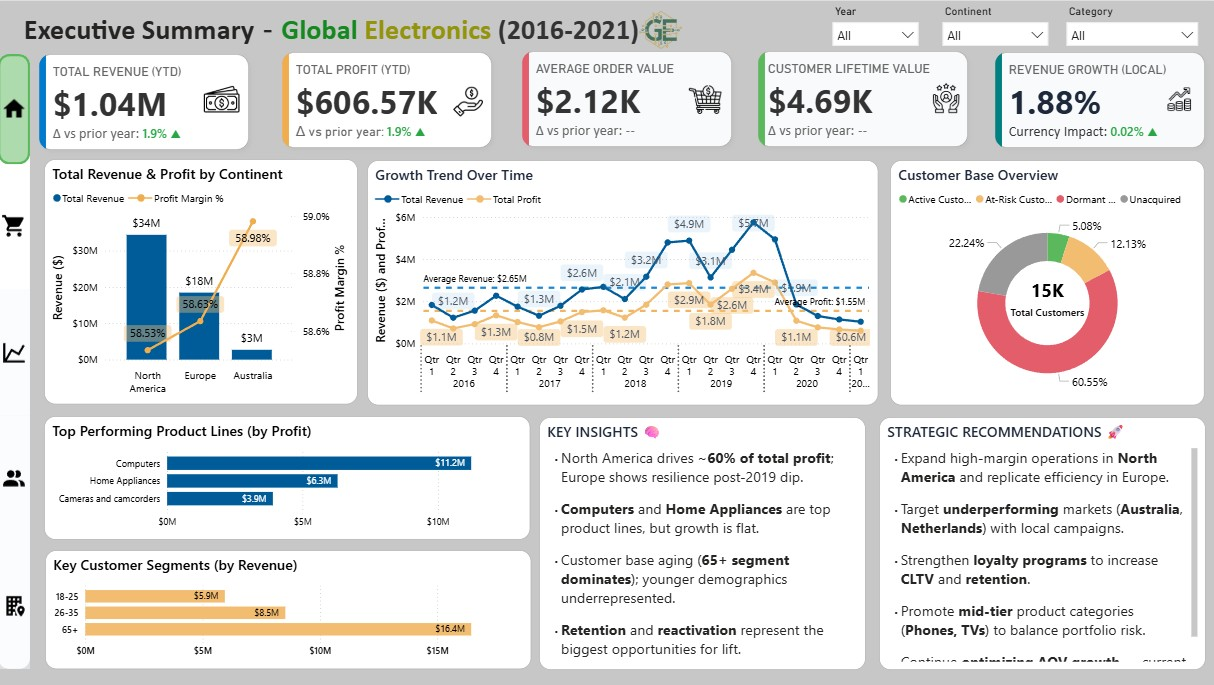

This screenshot's page, from the dashboard's own definition file:
{"tool":"powerbi","page":{"name":"Executive Summary","canvas":[1600,900],"ordinal":0},"visuals":[{"type":"textbox","box":[28.3,8.3,870,60],"z":0},{"type":"cardVisual","fields":{"Data":["customers.Customer Average Order Value"]},"box":[677.1,54.3,300,150],"z":0,"group":"g3"},{"type":"cardVisual","fields":{"Data":["customers.Avg CLTV"]},"box":[988.6,54.3,300,150],"z":0,"group":"g4"},{"type":"cardVisual","fields":{"Data":["sales_final.Total Profit YTD"]},"box":[361.4,55.7,300,150],"z":0,"group":"g2"},{"type":"cardVisual","fields":{"Data":["exchange_rates_final.Revenue Growth (Local Currency) %"]},"box":[1300,55.7,300,150],"z":0,"group":"g5"},{"type":"cardVisual","fields":{"Data":["sales_final.Total Revenue YTD"]},"box":[42,58,300,150],"z":0,"group":"g1"},{"type":"shape","box":[0,70.4,42.3,809.2],"z":0,"group":"g6"},{"type":"donutChart","title":"Customer Base Overview","fields":{"Y":["customers.Active Customers","customers.At-Risk Customers","customers.Dormant Customers","customers.Unacquired"]},"box":[1174.3,208.6,414.3,322.9],"z":0,"group":"g7"},{"type":"image","title":"Logo","box":[827.3,7.8,87,61],"z":1000},{"type":"image","box":[266.3,99.4,57.1,61.4],"z":1000,"group":"g1"},{"type":"image","box":[903.4,101,52.9,57.1],"z":1000,"group":"g3"},{"type":"image","box":[1220.8,101,52.9,52.9],"z":1000,"group":"g4"},{"type":"image","box":[592.2,108.1,52.9,48.6],"z":1000,"group":"g2"},{"type":"image","box":[1532.9,108.6,42.9,42.9],"z":1000,"group":"g5"},{"type":"actionButton","box":[0,212,42,167.5],"z":1000,"group":"g6"},{"type":"card","fields":{"Values":["customers.Total Customers"]},"box":[1312.4,337.2,138.1,104.3],"z":1000,"group":"g7"},{"type":"group","id":"g1","title":"Card_1","box":[42,58,300,150],"z":2000},{"type":"actionButton","box":[0,379.5,42,167.5],"z":2000,"group":"g6"},{"type":"group","id":"g2","title":"Card_2","box":[361.4,55.7,300,150],"z":3000},{"type":"actionButton","box":[0,712.5,42,167.5],"z":3000,"group":"g6"},{"type":"group","id":"g3","title":"Card_3","box":[677.1,54.3,300,150],"z":4000},{"type":"actionButton","box":[0,545,42,167.5],"z":4000,"group":"g6"},{"type":"group","id":"g4","title":"Card_4","box":[988.6,54.3,300,150],"z":5000},{"type":"actionButton","box":[0,69.9,42.3,145.3],"z":5000,"group":"g6"},{"type":"group","id":"g5","title":"Card_5","box":[1300,55.7,300,150],"z":6000},{"type":"group","id":"g6","title":"Page_nav","box":[0,69.9,42.3,810.1],"z":7000},{"type":"slicer","fields":{"Values":["Calendar.Year"]},"box":[1088.6,0,132.9,68.6],"z":8000},{"type":"slicer","fields":{"Values":["customers.Continent"]},"box":[1232.9,0,158.6,68.6],"z":9000},{"type":"lineClusteredColumnComboChart","title":"Total Revenue & Profit by Continent","fields":{"Category":["customers.Continent"],"Y":["sales_final.Total Revenue"],"Y2":["sales_final.Profit Margin %"]},"box":[60,208.3,413.3,323.3],"z":10000},{"type":"lineChart","title":"Growth Trend Over Time","fields":{"Category":["Calendar.Year","Calendar.Date.Variation.Date Hierarchy.Quarter"],"Y":["sales_final.Total Revenue","sales_final.Total Profit"]},"box":[485.7,208.6,672.9,322.9],"z":11000},{"type":"group","id":"g7","title":"Pie","box":[1174.3,208.6,414.3,322.9],"z":12000},{"type":"clusteredBarChart","title":"Top Performing Product Lines (by Profit)","fields":{"Category":["products.Category"],"Y":["sales_final.Total Profit"]},"box":[60,545.7,640,162.9],"z":13000},{"type":"clusteredBarChart","title":"Key Customer Segments (by Revenue)","fields":{"Category":["customers.Age Group"],"Y":["sales_final.Total Revenue"]},"box":[61.4,722.9,640,157.1],"z":14000},{"type":"textbox","title":"KEY INSIGHTS 🧠","box":[711.4,547.1,430,332.9],"z":15000},{"type":"textbox","title":"STRATEGIC RECOMMENDATIONS 🚀","box":[1158.6,547.1,430,332.9],"z":16000},{"type":"slicer","fields":{"Values":["products.Category"]},"box":[1395.7,0,192.9,68.6],"z":17000}]}

Visuals, with their boxes in screenshot pixels (x1, y1, x2, y2), scaled from the page's 1600x900 canvas onto the 1214x685 screenshot:
textbox: detection(21, 6, 682, 52)
cardVisual - customers.Customer Average Order Value: detection(514, 41, 741, 155)
cardVisual - customers.Avg CLTV: detection(750, 41, 978, 155)
cardVisual - sales_final.Total Profit YTD: detection(274, 42, 502, 157)
cardVisual - exchange_rates_final.Revenue Growth (Local Currency) %: detection(986, 42, 1213, 157)
cardVisual - sales_final.Total Revenue YTD: detection(32, 44, 259, 158)
shape: detection(0, 54, 32, 669)
"Customer Base Overview" donutChart: detection(891, 159, 1205, 405)
"Logo" image: detection(628, 6, 694, 52)
image: detection(202, 76, 245, 122)
image: detection(685, 77, 726, 120)
image: detection(926, 77, 966, 117)
image: detection(449, 82, 489, 119)
image: detection(1163, 83, 1196, 115)
actionButton: detection(0, 161, 32, 289)
card - customers.Total Customers: detection(996, 257, 1101, 336)
"Card_1" group: detection(32, 44, 259, 158)
actionButton: detection(0, 289, 32, 416)
"Card_2" group: detection(274, 42, 502, 157)
actionButton: detection(0, 542, 32, 670)
"Card_3" group: detection(514, 41, 741, 155)
actionButton: detection(0, 415, 32, 542)
"Card_4" group: detection(750, 41, 978, 155)
actionButton: detection(0, 53, 32, 164)
"Card_5" group: detection(986, 42, 1213, 157)
"Page_nav" group: detection(0, 53, 32, 670)
slicer - Calendar.Year: detection(826, 0, 927, 52)
slicer - customers.Continent: detection(935, 0, 1056, 52)
"Total Revenue & Profit by Continent" lineClusteredColumnComboChart: detection(46, 159, 359, 405)
"Growth Trend Over Time" lineChart: detection(369, 159, 879, 405)
"Pie" group: detection(891, 159, 1205, 405)
"Top Performing Product Lines (by Profit)" clusteredBarChart: detection(46, 415, 531, 539)
"Key Customer Segments (by Revenue)" clusteredBarChart: detection(47, 550, 532, 670)
"KEY INSIGHTS 🧠" textbox: detection(540, 416, 866, 670)
"STRATEGIC RECOMMENDATIONS 🚀" textbox: detection(879, 416, 1205, 670)
slicer - products.Category: detection(1059, 0, 1205, 52)
